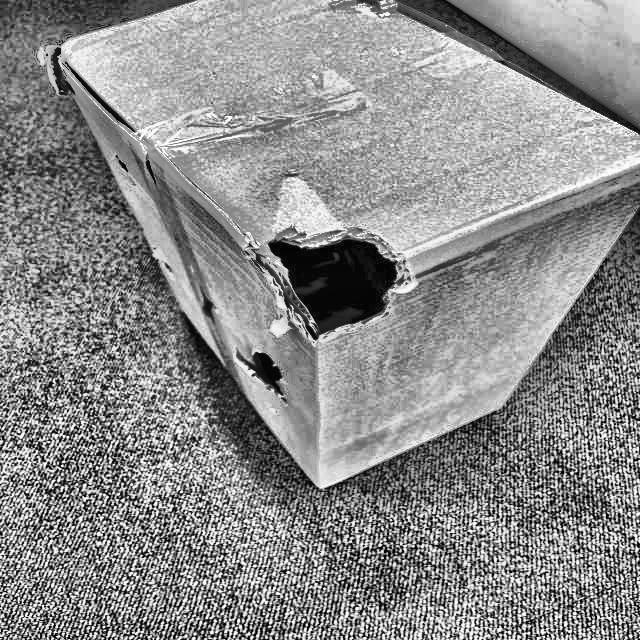box: (39, 0, 640, 496)
hole: (265, 235, 401, 328), (231, 343, 295, 385)
